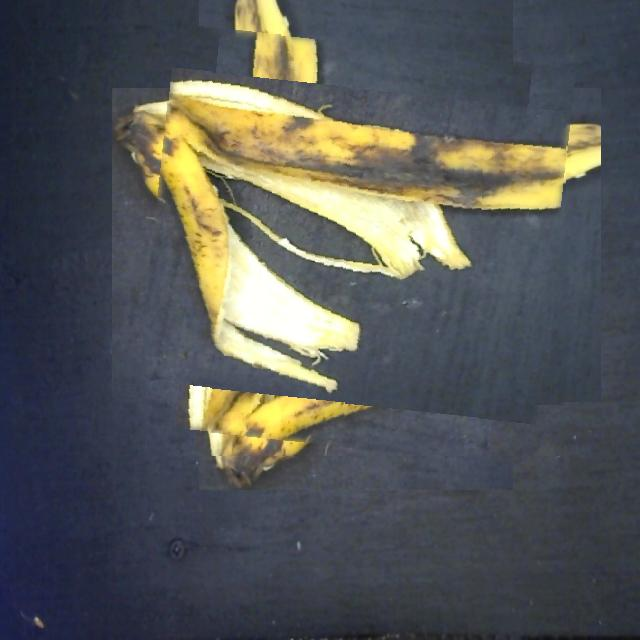biodegradable: (145, 34, 567, 456)
